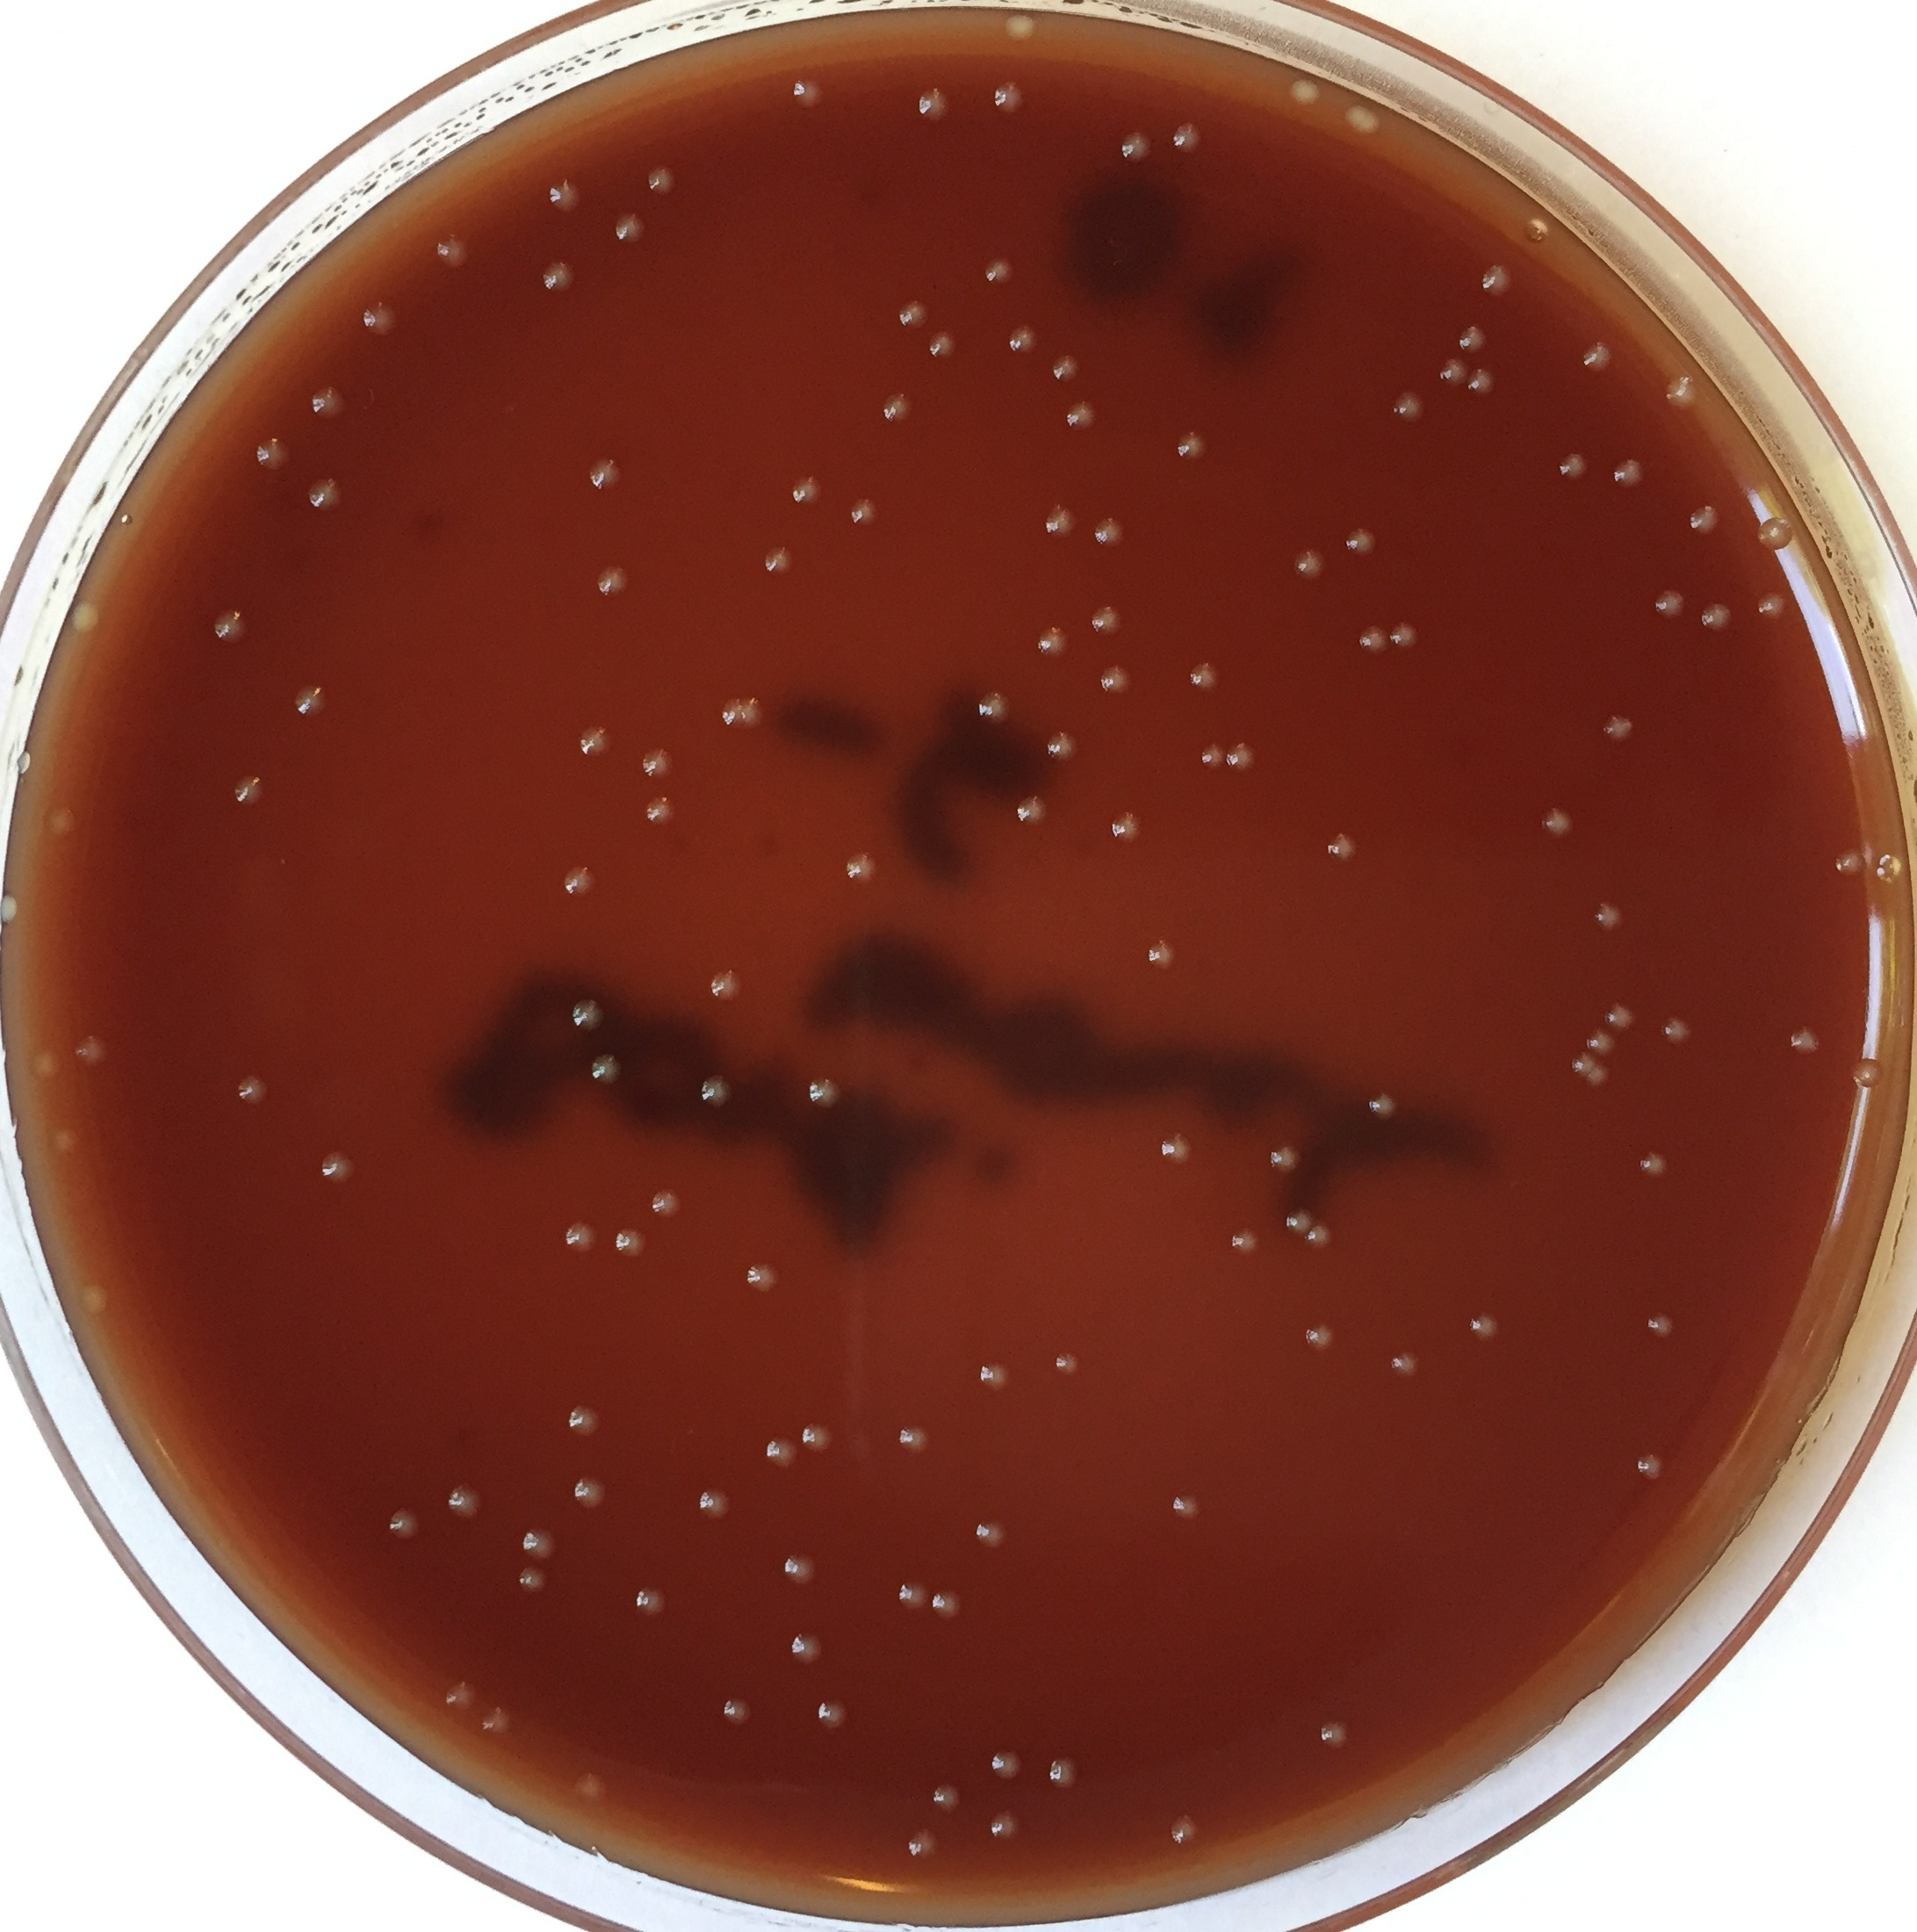sp06: (1752, 511, 1796, 556), (621, 1578, 669, 1620), (514, 1521, 558, 1565), (544, 174, 588, 218), (913, 84, 960, 125), (23, 1044, 65, 1088), (722, 697, 769, 733), (1041, 502, 1081, 544), (319, 1148, 358, 1191), (571, 1472, 614, 1511), (781, 1549, 822, 1590), (1661, 372, 1703, 411), (383, 1506, 423, 1544), (1827, 844, 1868, 883), (574, 721, 614, 760), (360, 300, 400, 339), (442, 1485, 485, 1521), (1389, 390, 1431, 426), (309, 386, 353, 421), (1685, 502, 1724, 540), (639, 744, 678, 783), (841, 849, 880, 888), (39, 800, 77, 839), (762, 1434, 802, 1470), (902, 1827, 943, 1864), (1466, 1307, 1506, 1344), (1290, 546, 1331, 583), (707, 969, 748, 1005), (291, 683, 328, 723), (592, 560, 628, 600), (846, 493, 887, 530), (922, 328, 962, 365), (999, 11, 1039, 47), (228, 772, 270, 807), (697, 1486, 734, 1525), (786, 1630, 825, 1667), (1631, 1449, 1668, 1488), (1601, 712, 1640, 749), (804, 1074, 843, 1111), (743, 1260, 781, 1297), (588, 456, 625, 495), (516, 1562, 556, 1597), (1590, 897, 1626, 937), (1088, 604, 1129, 639), (1324, 828, 1364, 863), (569, 998, 609, 1034), (255, 439, 295, 474), (539, 261, 581, 295), (1166, 118, 1199, 160), (1338, 105, 1380, 139), (813, 1693, 850, 1730), (68, 598, 105, 635), (211, 607, 248, 644), (788, 474, 825, 511), (75, 1281, 114, 1316), (1603, 1000, 1638, 1039), (1582, 1023, 1617, 1062), (1090, 516, 1129, 551), (760, 544, 799, 579), (1174, 428, 1210, 467), (1141, 935, 1176, 974), (1045, 730, 1085, 763), (1011, 791, 1052, 825), (880, 393, 920, 426), (1220, 737, 1262, 769), (565, 1404, 600, 1441), (1264, 1141, 1299, 1177), (1355, 623, 1390, 660), (1698, 602, 1734, 637), (1462, 367, 1499, 402), (976, 691, 1013, 726), (613, 211, 650, 246), (644, 165, 681, 200), (1064, 398, 1101, 433), (988, 81, 1025, 116), (976, 1356, 1011, 1393), (70, 1035, 109, 1069), (233, 1074, 272, 1107), (571, 1769, 609, 1802), (987, 1748, 1025, 1781), (1847, 1058, 1885, 1091), (1536, 805, 1575, 839), (1476, 263, 1515, 297), (435, 233, 469, 272), (1317, 1718, 1352, 1753), (1046, 349, 1081, 384), (788, 75, 823, 111), (1118, 130, 1153, 165), (1160, 1132, 1195, 1167), (441, 1679, 477, 1713), (1167, 1492, 1204, 1525), (1301, 1321, 1334, 1358), (700, 1072, 734, 1109), (305, 477, 342, 511), (1608, 458, 1647, 490), (1343, 526, 1382, 558), (1097, 663, 1136, 695), (562, 1221, 600, 1253), (894, 300, 932, 332), (1045, 1755, 1080, 1788), (1166, 1811, 1201, 1844), (1387, 1346, 1422, 1379), (1366, 1090, 1401, 1123), (1659, 1016, 1694, 1049), (1188, 660, 1224, 693), (643, 795, 678, 828), (590, 1053, 623, 1088), (614, 1225, 650, 1258), (1282, 1202, 1313, 1239), (1568, 1049, 1599, 1086), (560, 865, 597, 897), (1283, 75, 1322, 105), (718, 1697, 751, 1730), (1785, 1025, 1819, 1058), (1652, 588, 1685, 621), (981, 254, 1015, 288), (47, 1123, 79, 1158), (799, 1425, 834, 1456), (1636, 1151, 1671, 1183), (1455, 325, 1490, 356), (1036, 625, 1067, 660), (1109, 812, 1145, 844), (650, 1190, 685, 1221), (479, 1704, 513, 1735), (987, 1809, 1020, 1841), (929, 1588, 962, 1620), (1229, 1227, 1262, 1258), (1580, 342, 1613, 374), (930, 1783, 960, 1818), (895, 1579, 930, 1609), (1875, 851, 1905, 886), (974, 1518, 1008, 1548), (1303, 1221, 1332, 1255), (1006, 321, 1036, 354), (1387, 619, 1422, 648), (1754, 590, 1789, 618), (1438, 356, 1469, 386), (1643, 1313, 1676, 1341), (899, 1425, 929, 1455), (1052, 1349, 1081, 1379), (1585, 1062, 1613, 1091), (1557, 451, 1585, 481), (1199, 741, 1227, 770)
